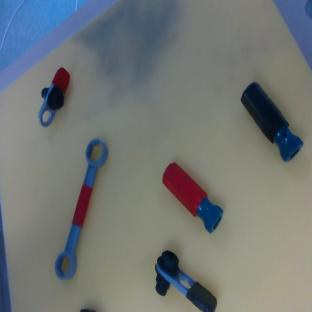part_1_bad: (140, 247, 222, 312)
part_1_good: (33, 65, 72, 130)
part_2_bad: (235, 80, 307, 164)
part_2_good: (156, 160, 229, 235)
part_3_bad: (80, 309, 96, 312)
part_3_good: (51, 137, 111, 283)
